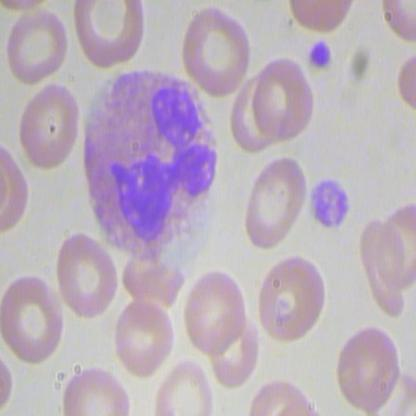Platelets: (307, 174, 351, 232), (306, 37, 335, 73)
RBC: (237, 150, 311, 250), (178, 5, 253, 102), (16, 78, 83, 181), (255, 257, 328, 344), (326, 321, 398, 408), (115, 287, 177, 382), (1, 272, 62, 367), (252, 54, 316, 141), (4, 1, 70, 85), (56, 231, 119, 319), (184, 265, 247, 352), (71, 1, 151, 67), (59, 357, 131, 414), (151, 357, 211, 415)
WBC: (74, 57, 228, 255)
